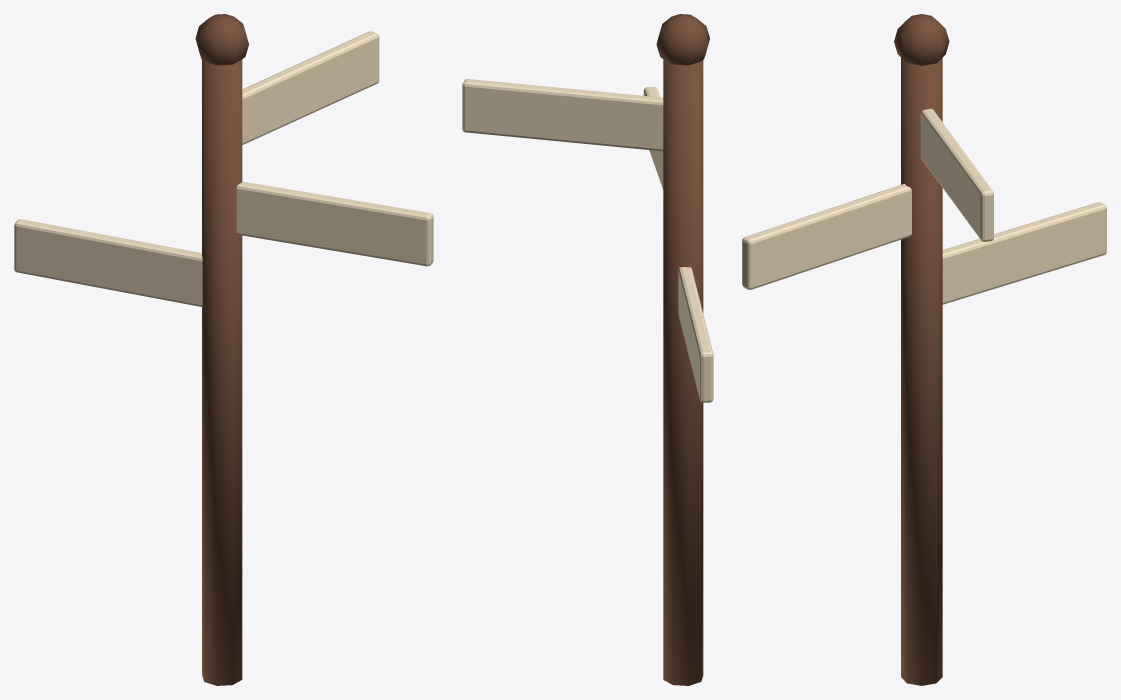
File: signpost.glb
3 renders of one model, left to right at view 1: azimuth 30°, elevation 25°; view 2: azimuth 150°, elevation 25°; view 3: azimuth 270°, elevation 25°, orthographic.
Parts seen in each view (by area): view 1: signpost; view 2: signpost; view 3: signpost.
Boxes of the visible parts, x1,y1,x2,y2 form: signpost: (14, 14, 433, 685); signpost: (462, 14, 713, 685); signpost: (742, 14, 1106, 685).
Bounding box in the file's own units: 1.02 × 2.1 × 1.05.
